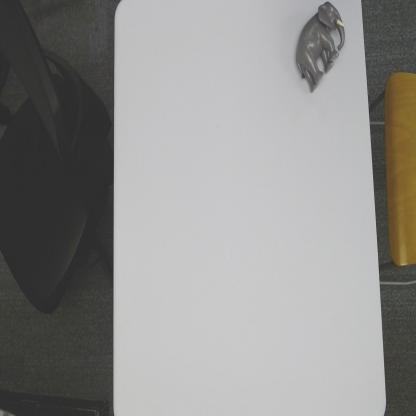Elephant: (295, 1, 346, 94)
